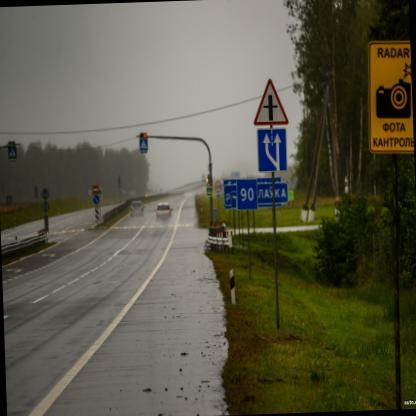road_sign: (255, 79, 288, 125), (258, 129, 285, 170), (236, 179, 255, 209), (138, 132, 148, 153), (7, 141, 16, 159), (92, 192, 100, 207), (90, 185, 101, 194)
